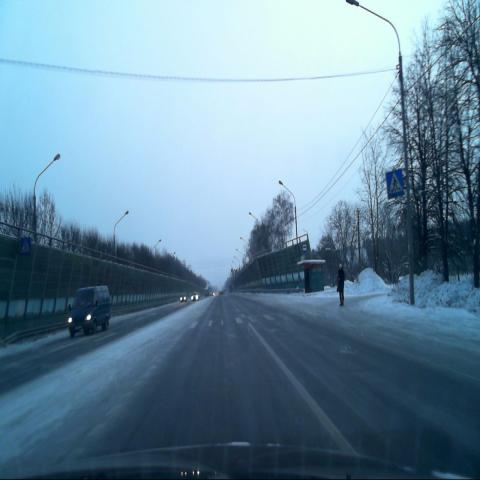5_19_1: (385, 169, 404, 199)
